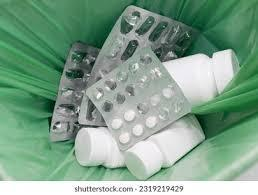pill_Strip: (89, 5, 198, 85), (50, 42, 98, 140), (132, 124, 143, 135), (116, 94, 124, 103)
